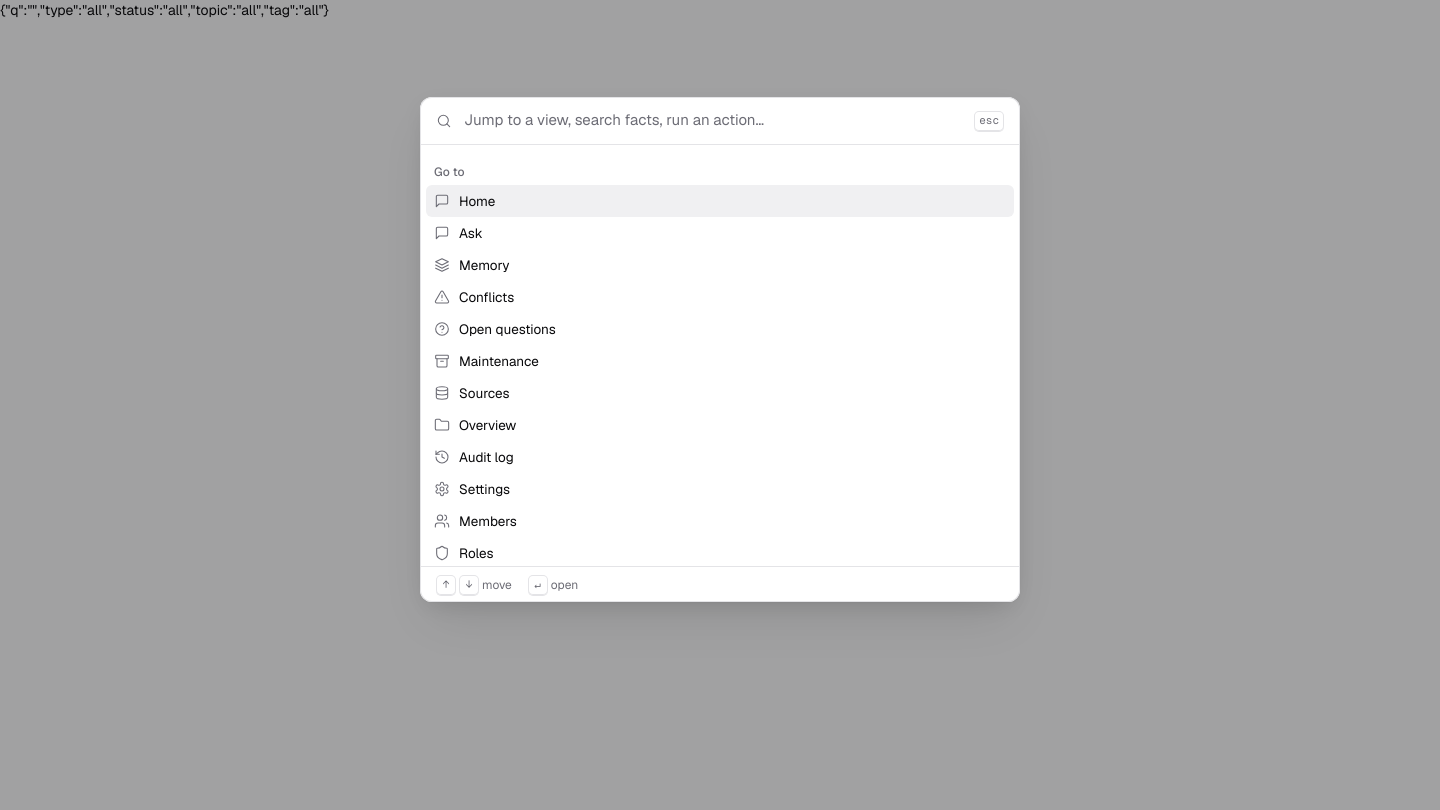
Scenario: Palette › facts › searches the facts once the typing pauses and lists them first, with their id
Type " Autonomy " into the dropdown. click: (713, 121)
box: [464,109,962,132]
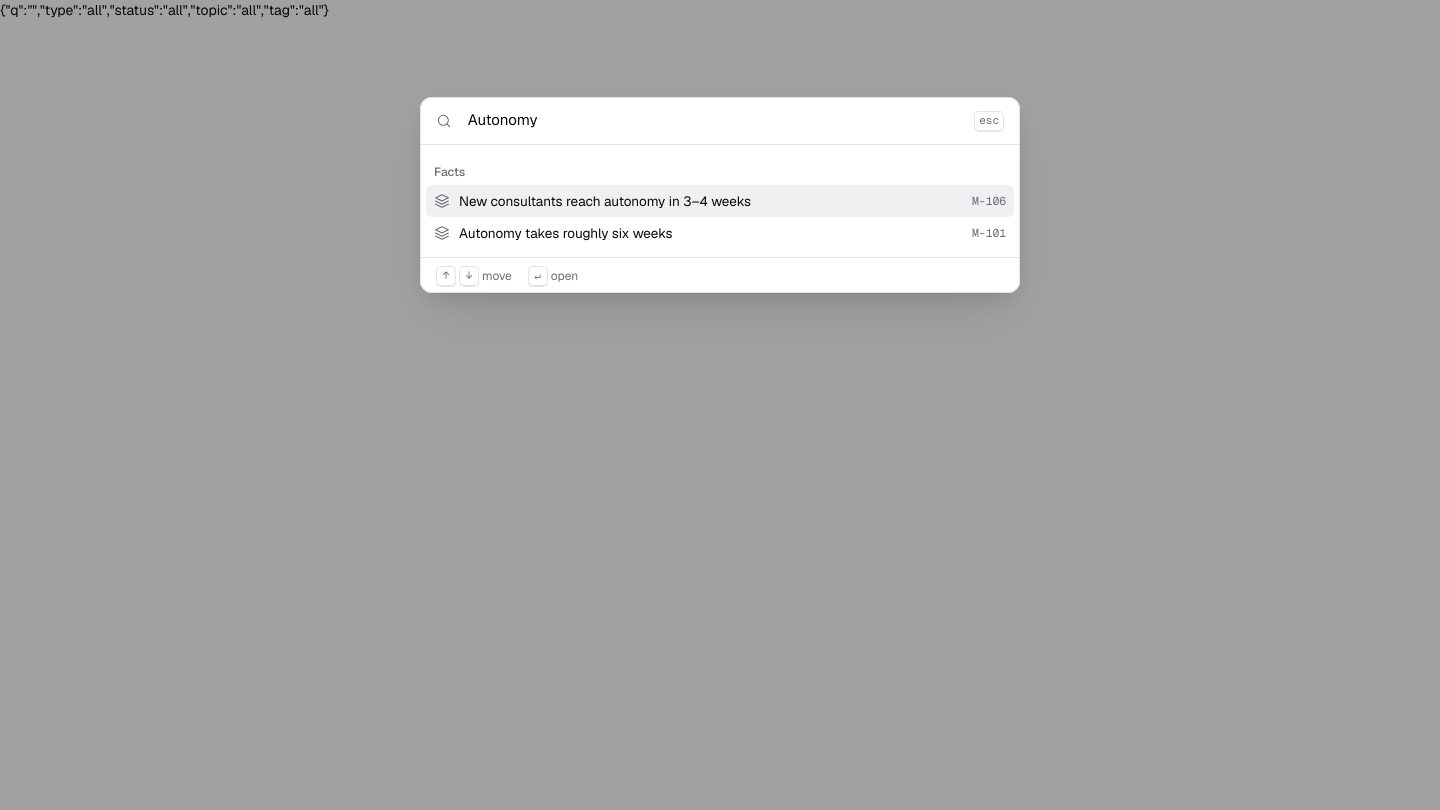
Expected: the text "Facts" is shown, [434,164,465,180]
Expected: the option "New consultants reach autonomy in 3–4 weeks M-106" is shown, [426,185,1014,217]
Expected: the option "Autonomy takes roughly six weeks M-101" is shown, [426,217,1014,249]
